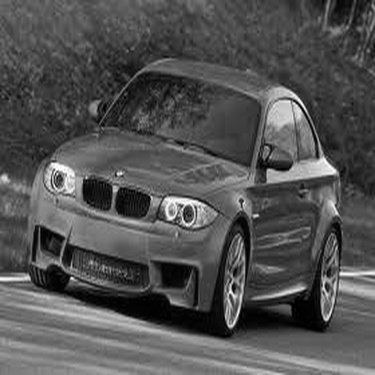car: (26, 48, 350, 342)
